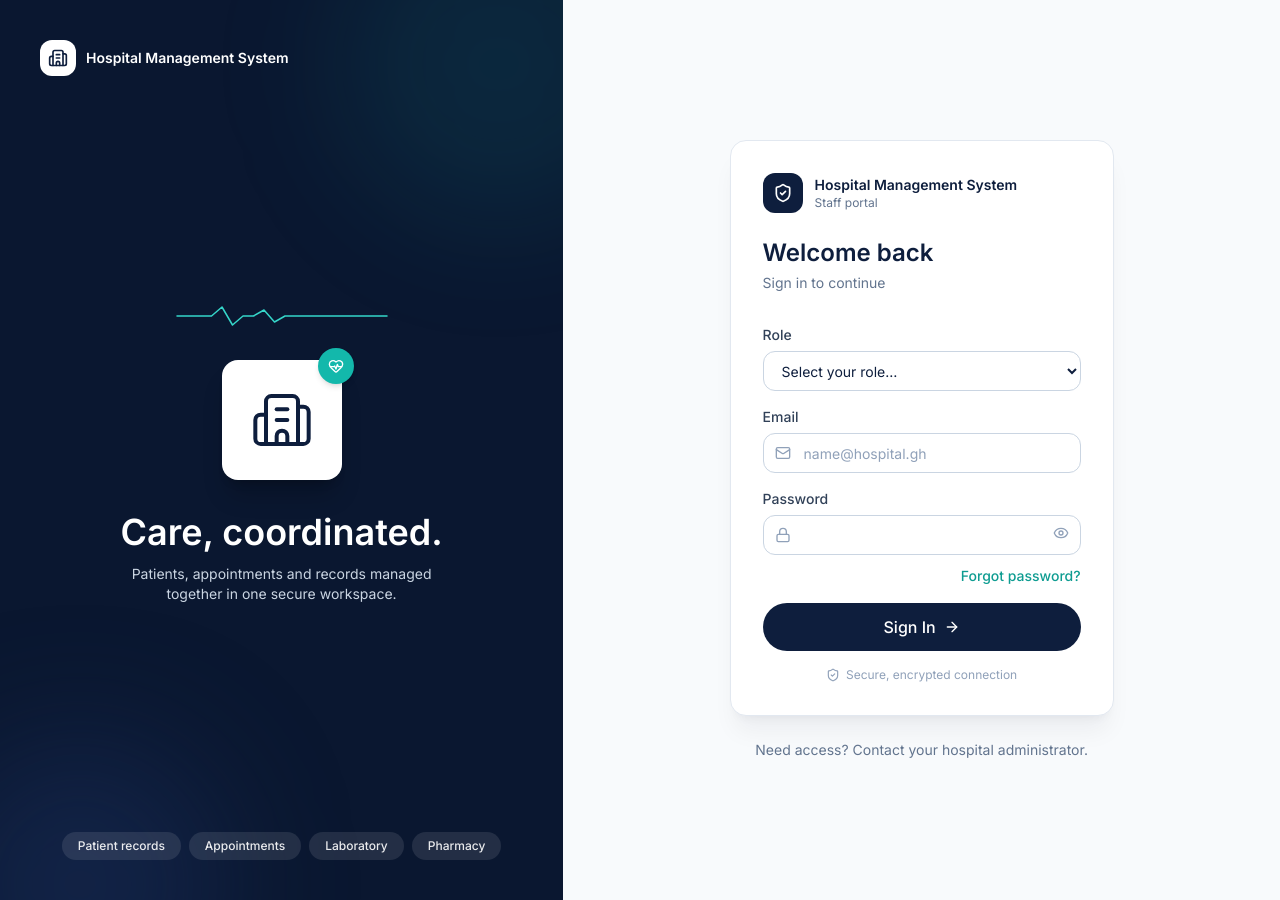
Scenario: Login › shows an error message when the backend rejects the credentials
Select "Doctor" in the dropdown labelled "Role" at (922, 371), box 763,351 -> 1081,391
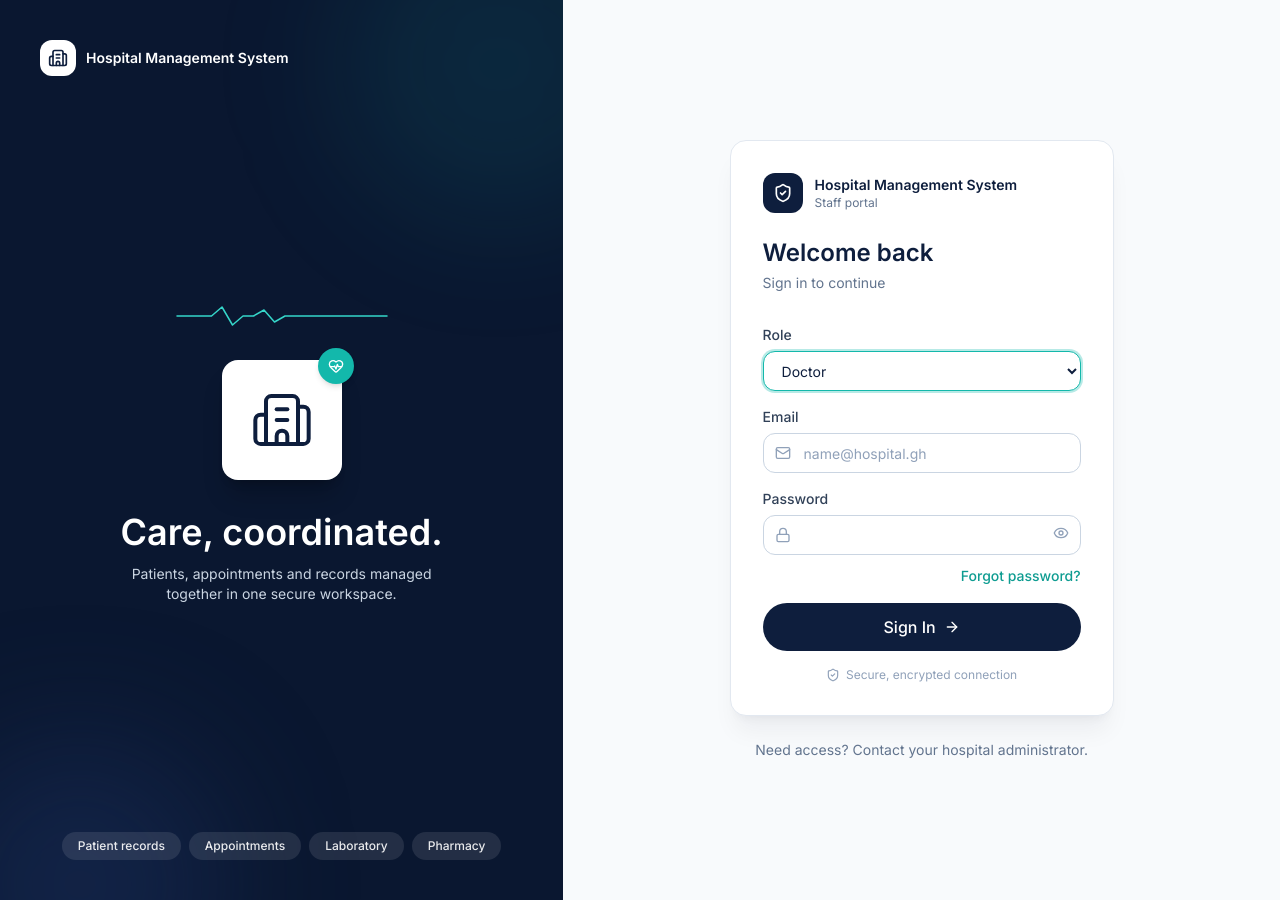
Type "doctor@demo.hms.gh" into the field labelled "Email" at (922, 453), box 763,433 -> 1081,473
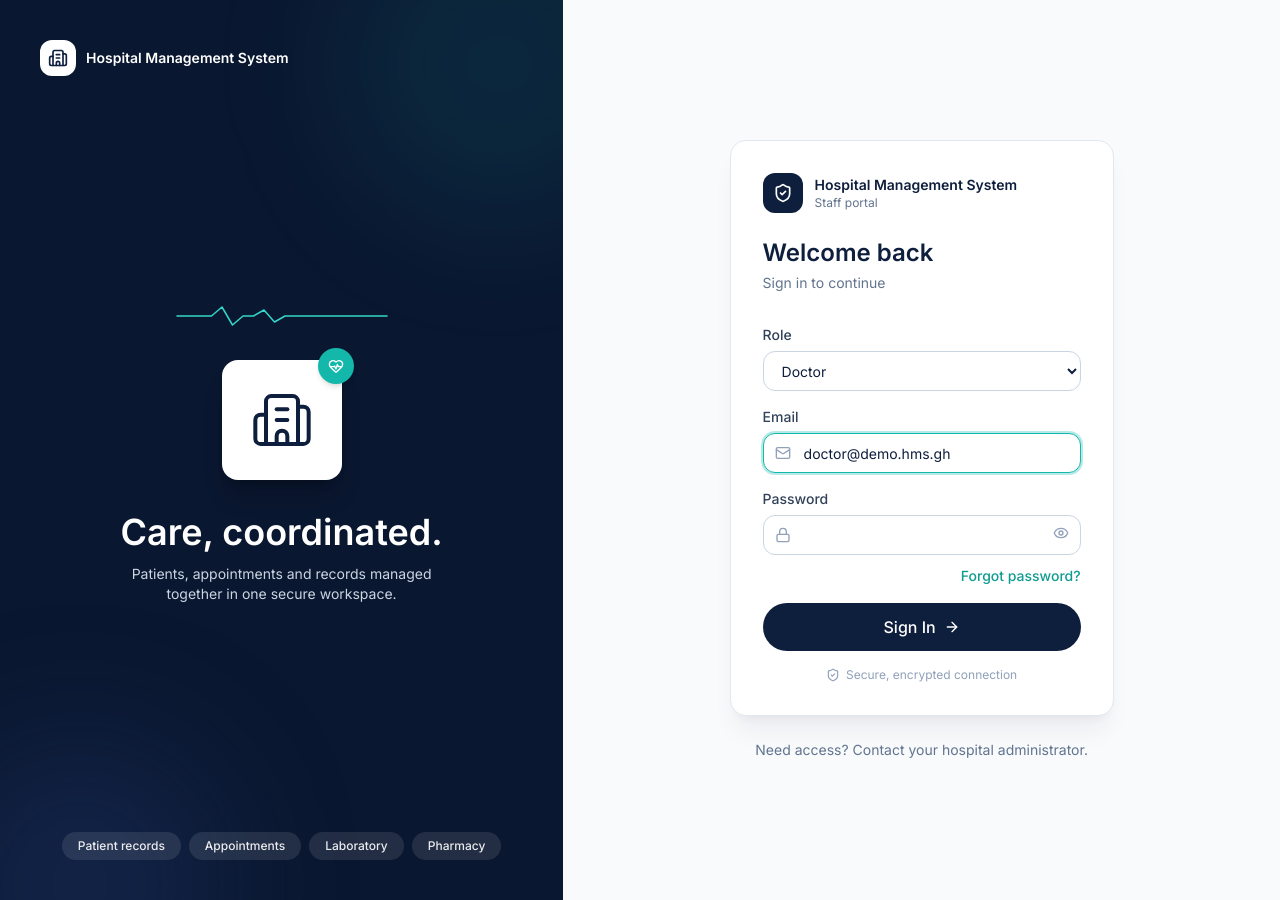
Type "DemoPass123!" into the password field labelled "Password" at (922, 535), box 763,515 -> 1081,555
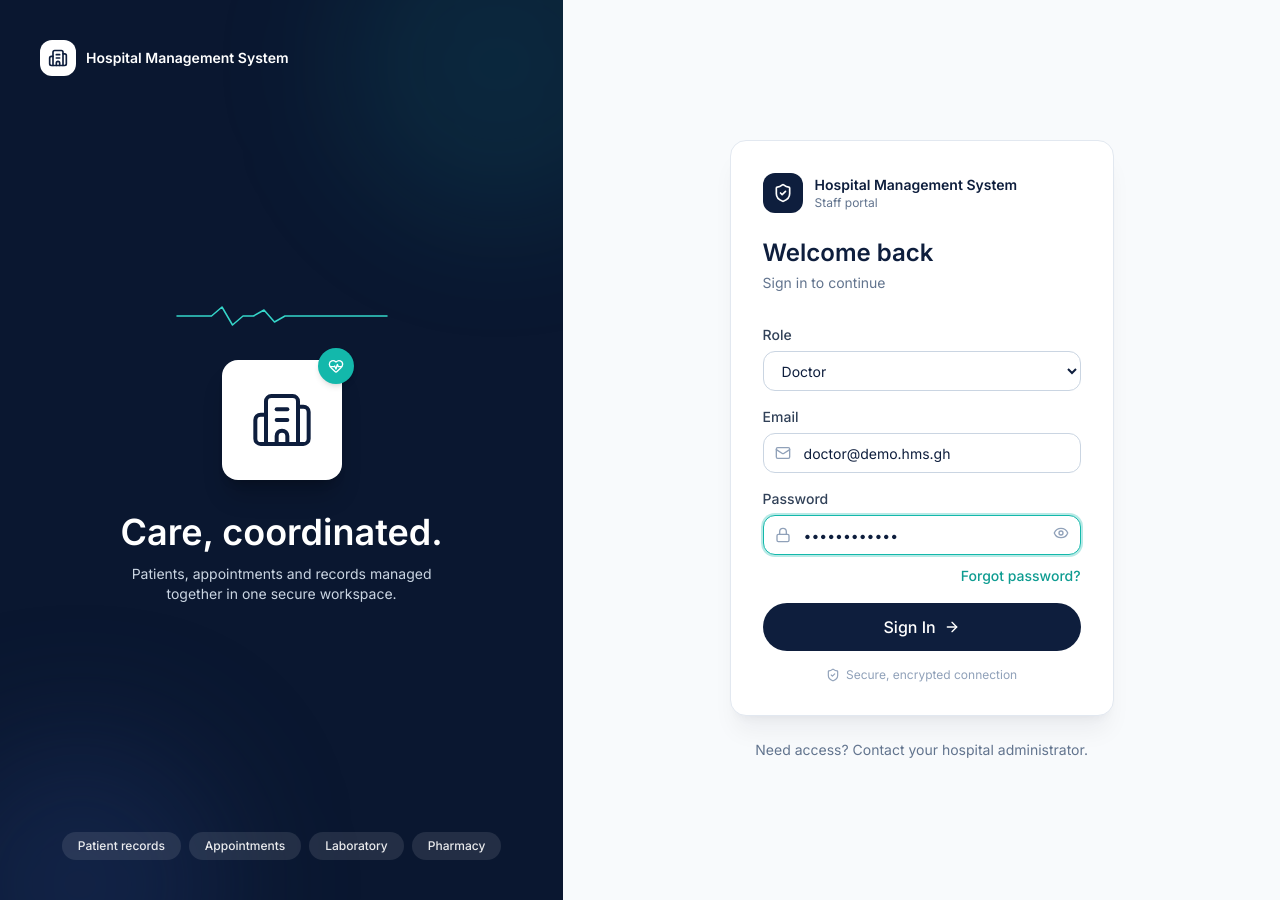
Click the button "Sign In" at (922, 627), box 763,603 -> 1081,651
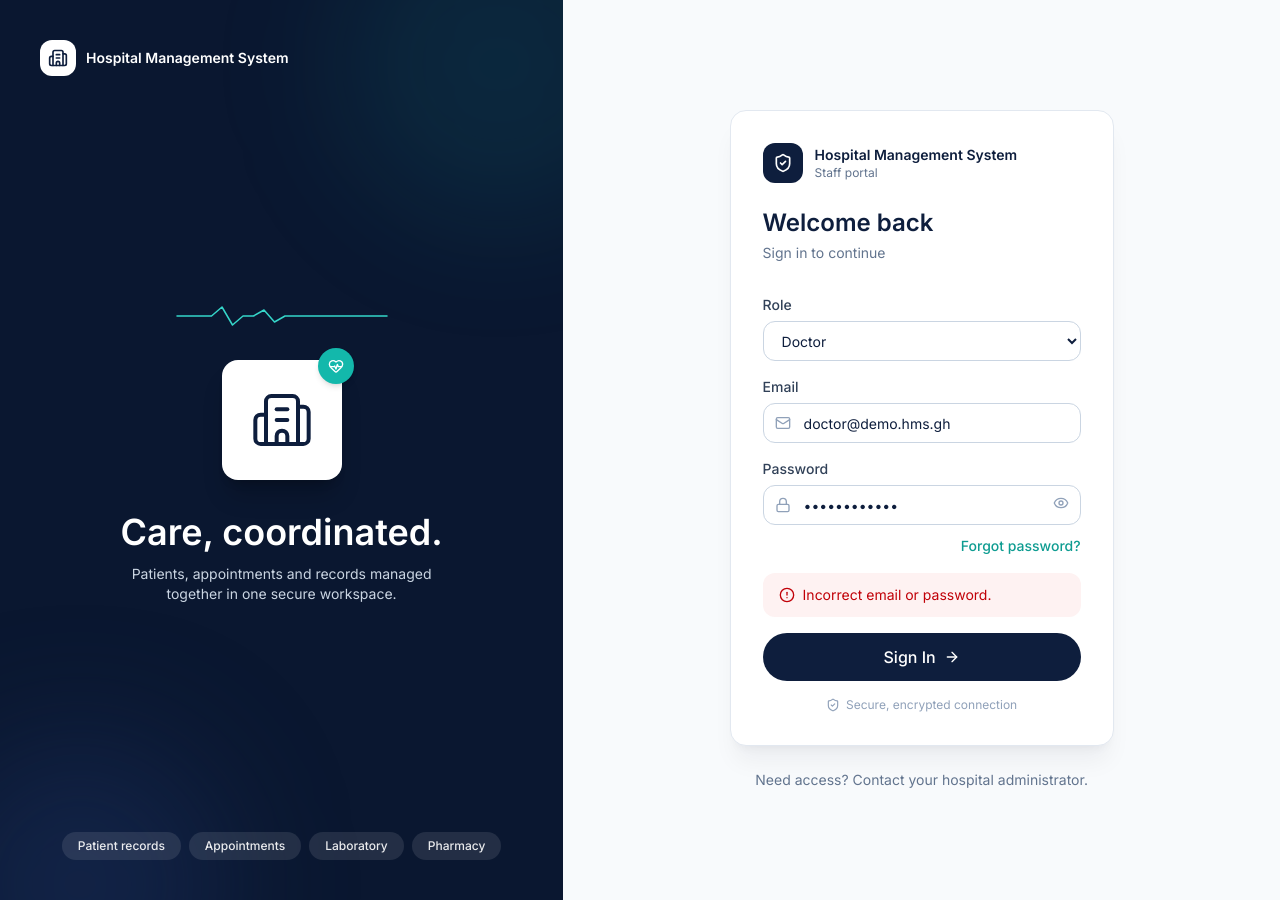
Check: the text "Incorrect email or password." is shown, box 803,585 -> 991,605
